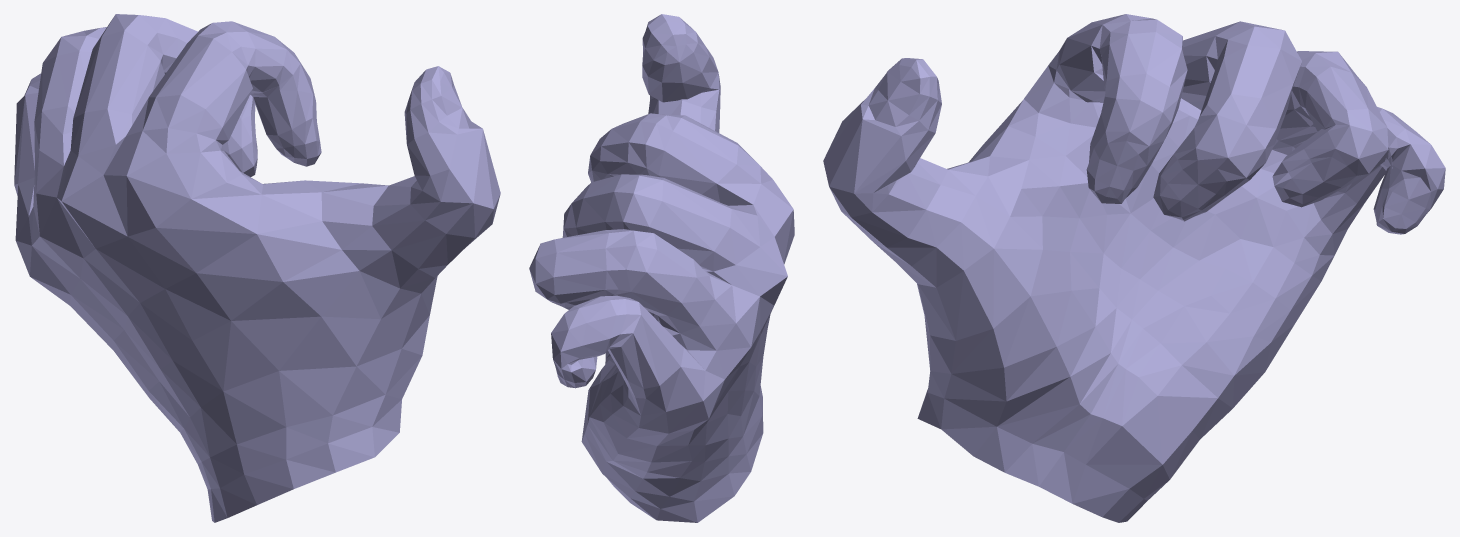
Rendered from frame_0000_source_000000_hand.glb.
3 renders of one model, left to right at view 1: azimuth 30°, elevation 25°; view 2: azimuth 150°, elevation 25°; view 3: azimuth 270°, elevation 25°, orthographic. The views are drawn at different scales.
Visible parts, largest first — view 1: world; view 2: world; view 3: world.
Part boxes in pixels (x1,y1,x2,y2): world: (14,14,500,522); world: (529,14,794,522); world: (823,14,1445,522).
Bounding box in the file's own units: 0.0742 × 0.1181 × 0.1311.
